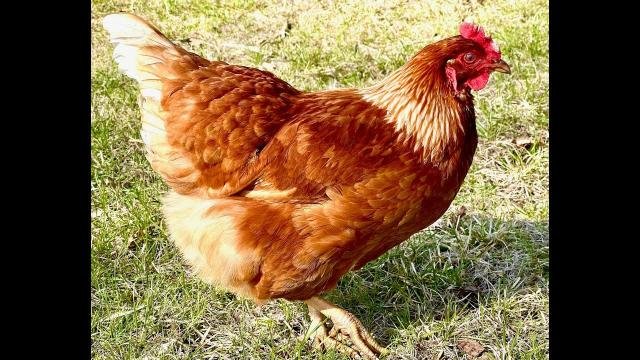Chicken: (102, 12, 514, 360)
